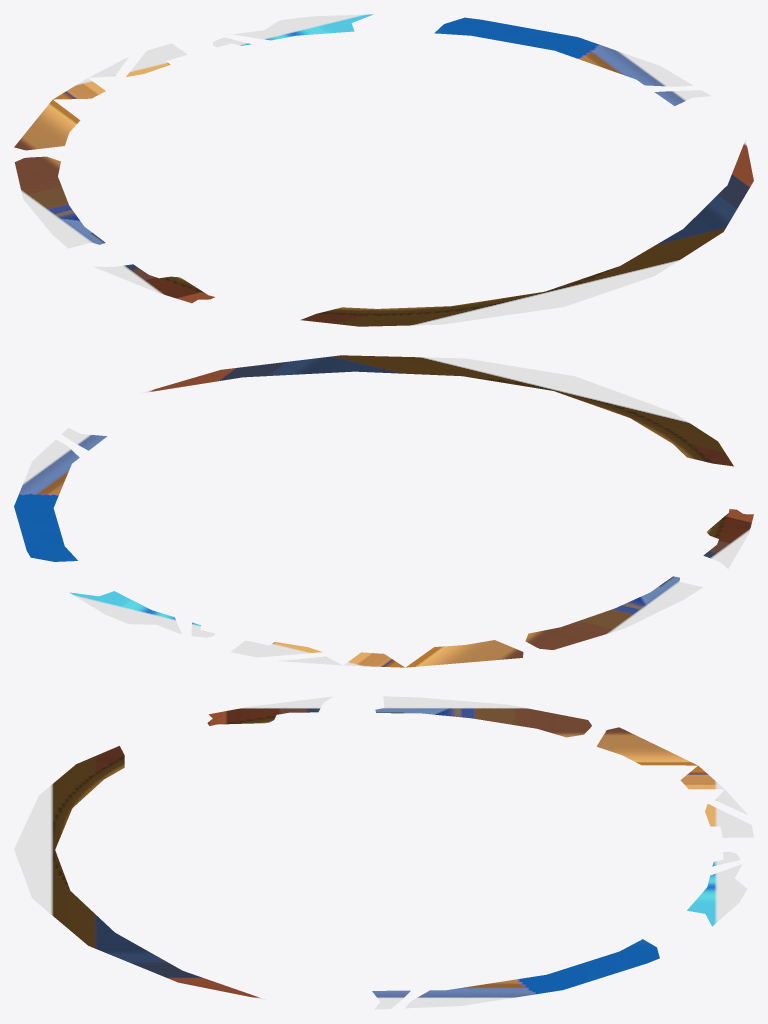
Rendered from combat_icon_9_liuguang01.FBX.
The picture shows the model from 3 angles, top to bottom: view 1: azimuth 30°, elevation 25°; view 2: azimuth 150°, elevation 25°; view 3: azimuth 270°, elevation 25°; orthographic projection.
Visible parts, largest first — view 1: combat_icon_9_liuguang01; view 2: combat_icon_9_liuguang01; view 3: combat_icon_9_liuguang01.
Boxes of the visible parts, x1,y1,x2,y2 form: combat_icon_9_liuguang01: (14,14,753,326); combat_icon_9_liuguang01: (14,355,753,667); combat_icon_9_liuguang01: (14,696,753,1009).
Bounding box in the file's own units: 78.71 × 2.23e-14 × 78.58.
